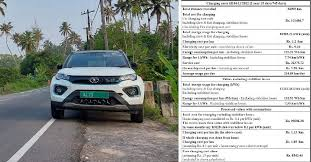Tata Nexon: (49, 49, 144, 124)
